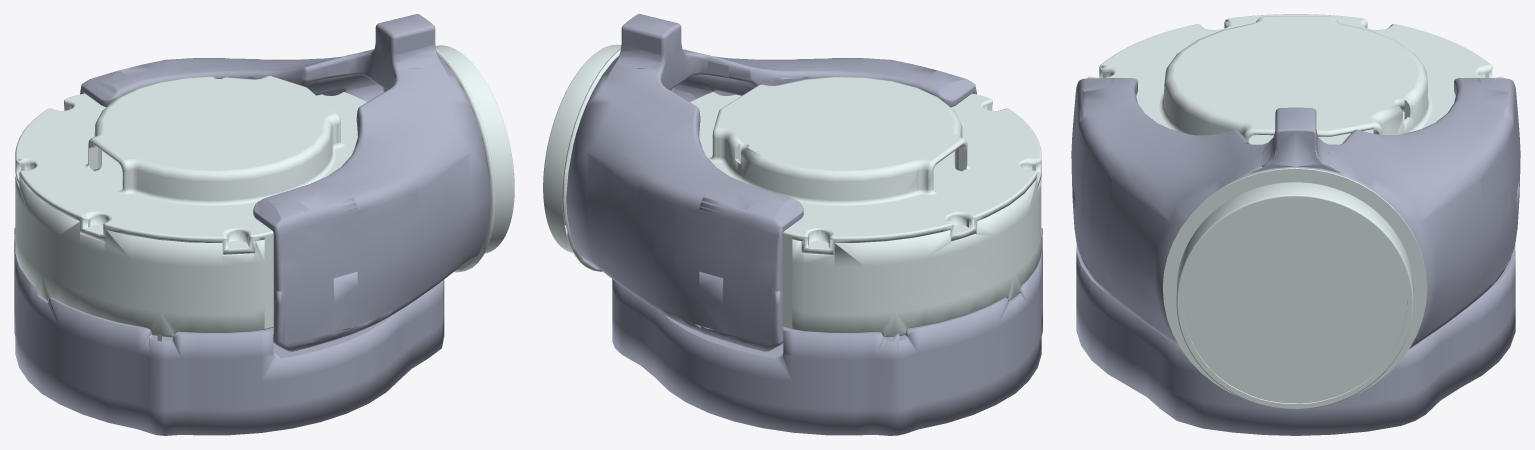
Rendered from RR_hip.obj.
3 renders of one model, left to right at view 1: azimuth 30°, elevation 25°; view 2: azimuth 150°, elevation 25°; view 3: azimuth 270°, elevation 25°, orthographic. The views are drawn at different scales.
Parts seen in each view (by area): view 1: RR_hip; view 2: RR_hip; view 3: RR_hip.
Boxes of the visible parts, x1,y1,x2,y2 form: RR_hip: [14, 14, 514, 435]; RR_hip: [543, 14, 1042, 435]; RR_hip: [1071, 14, 1520, 435].
Bounding box in the file's own units: 0.1181 × 0.0756 × 0.0985.
